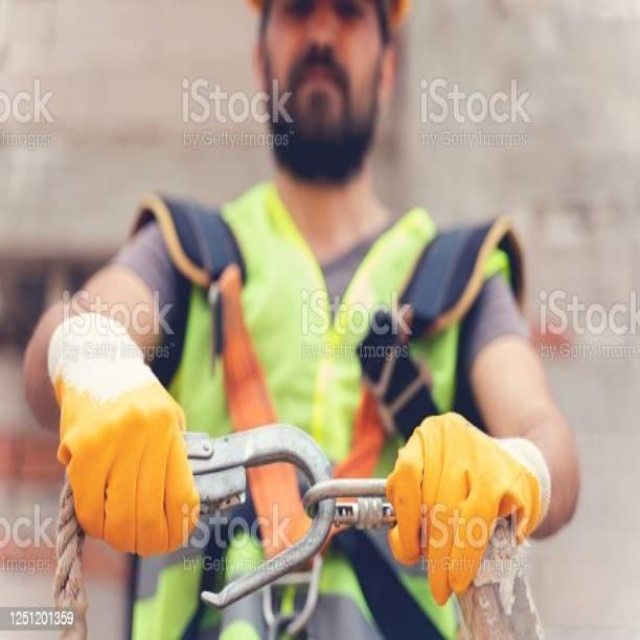Arnes_seguridad: (125, 173, 518, 640)
